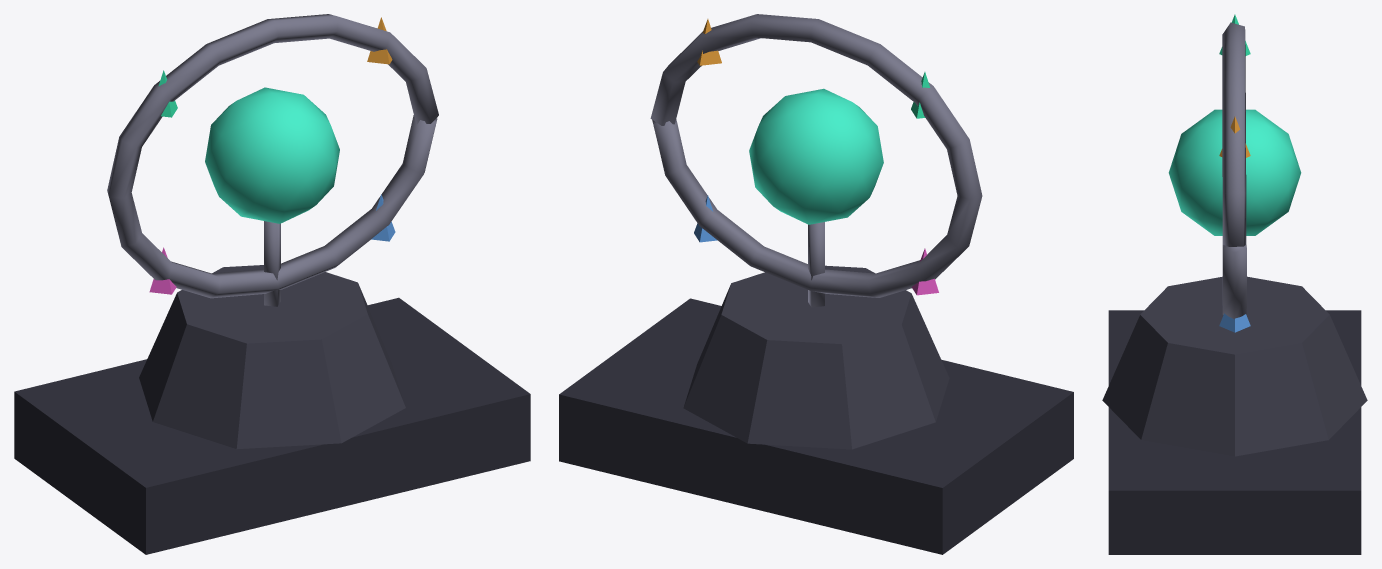
Rendered from ancient_manipulator_v0.glb.
The picture shows the model from 3 angles, left to right: view 1: azimuth 30°, elevation 25°; view 2: azimuth 150°, elevation 25°; view 3: azimuth 270°, elevation 25°; orthographic projection. The views are drawn at different scales.
Parts seen in each view (by area): view 1: ancient_manipulator_v0; view 2: ancient_manipulator_v0; view 3: ancient_manipulator_v0.
Boxes of the visible parts, x1,y1,x2,y2 form: ancient_manipulator_v0: (14, 14, 530, 554); ancient_manipulator_v0: (559, 14, 1073, 554); ancient_manipulator_v0: (1102, 14, 1367, 554).
Bounding box in the file's own units: 1.35 × 1.48 × 0.84.
